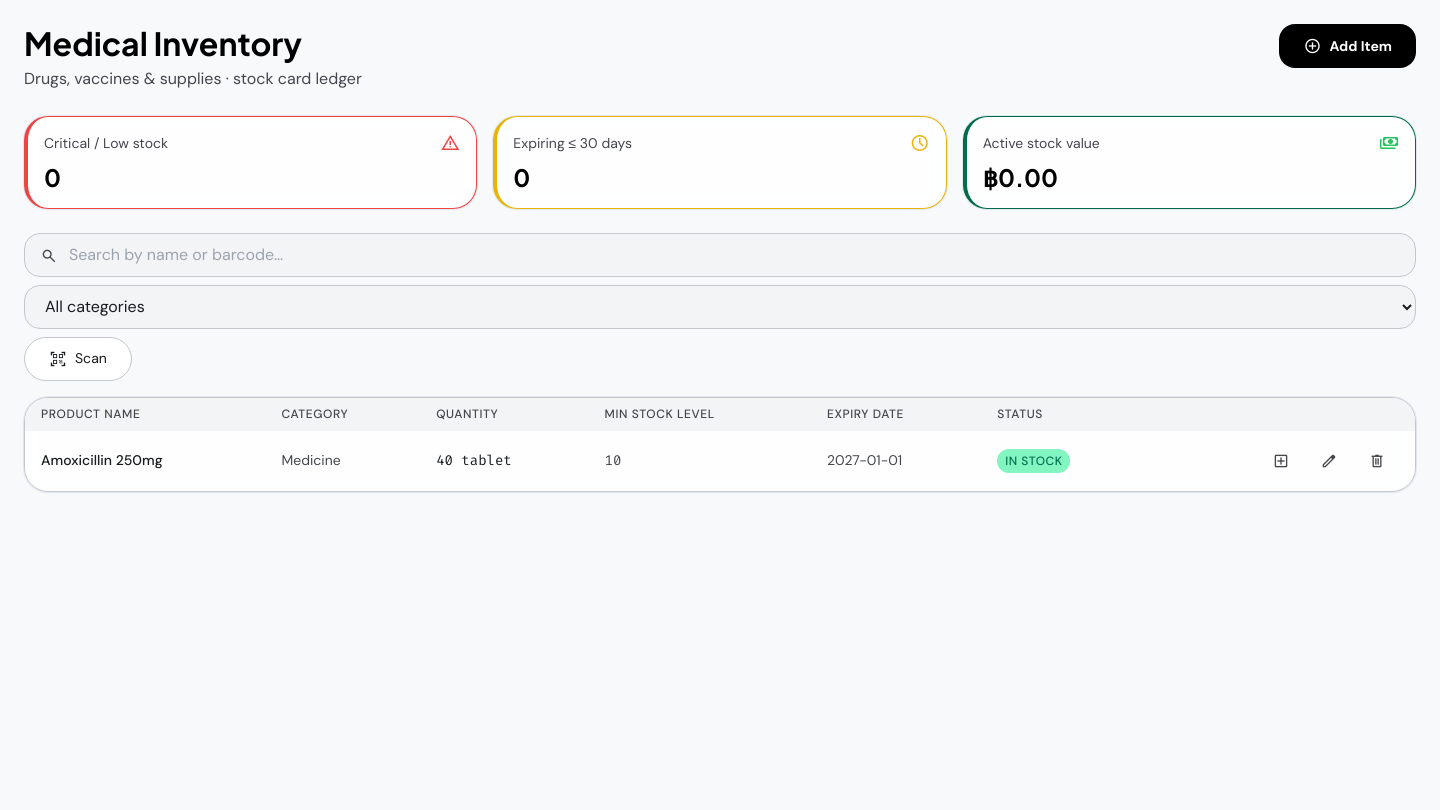
Test case: ClinicInventory — clinic_staff (full access) › Add Item opens the Add Product dialog; Escape closes it
The image size is (1440, 810).
Click the button "Add Item". click: (1348, 46)
box: x1=1280 y1=24 x2=1416 y2=68
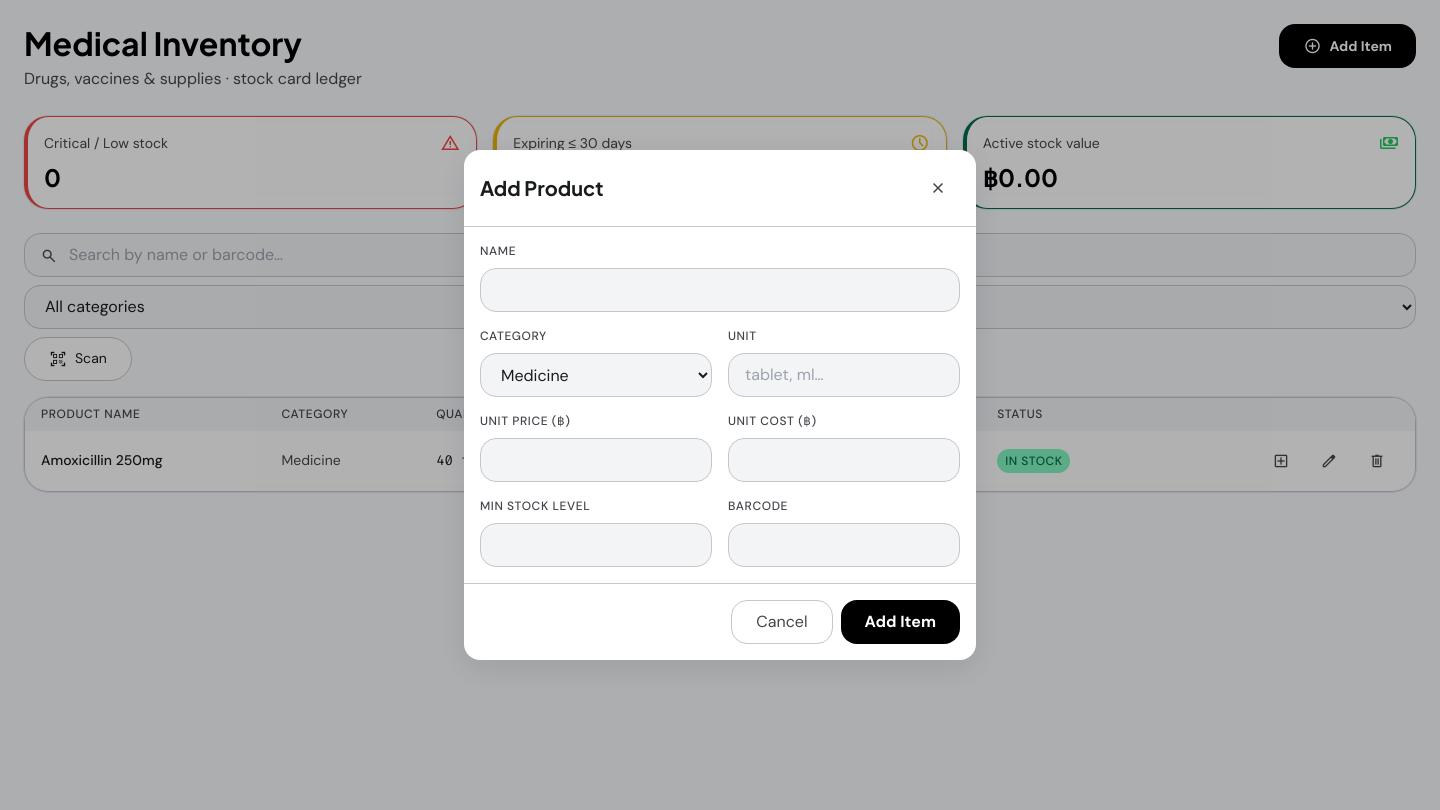
Expected: the dialog "Add Product" is shown, x1=464 y1=150 x2=976 y2=660
Press Escape
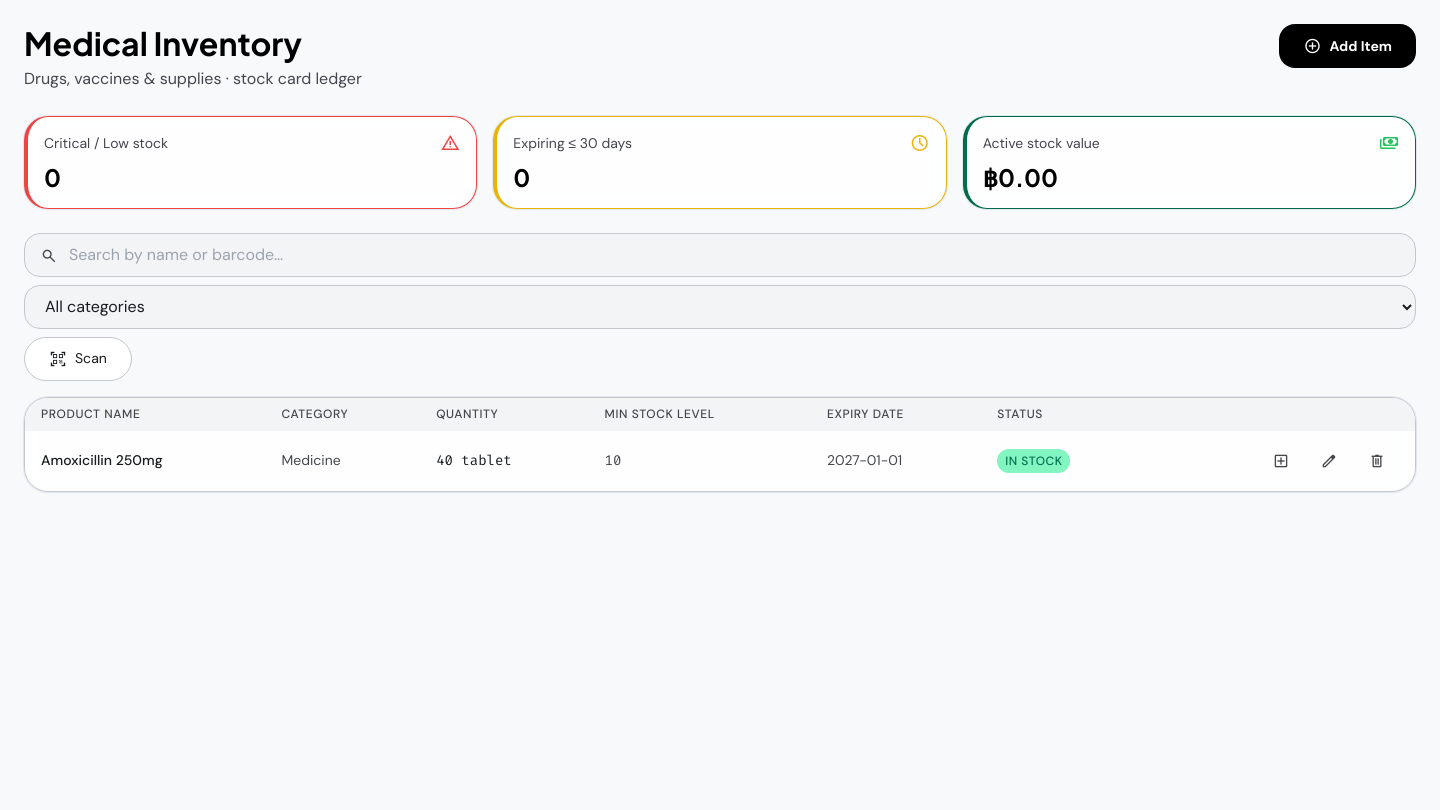
Expected: the dialog is gone
